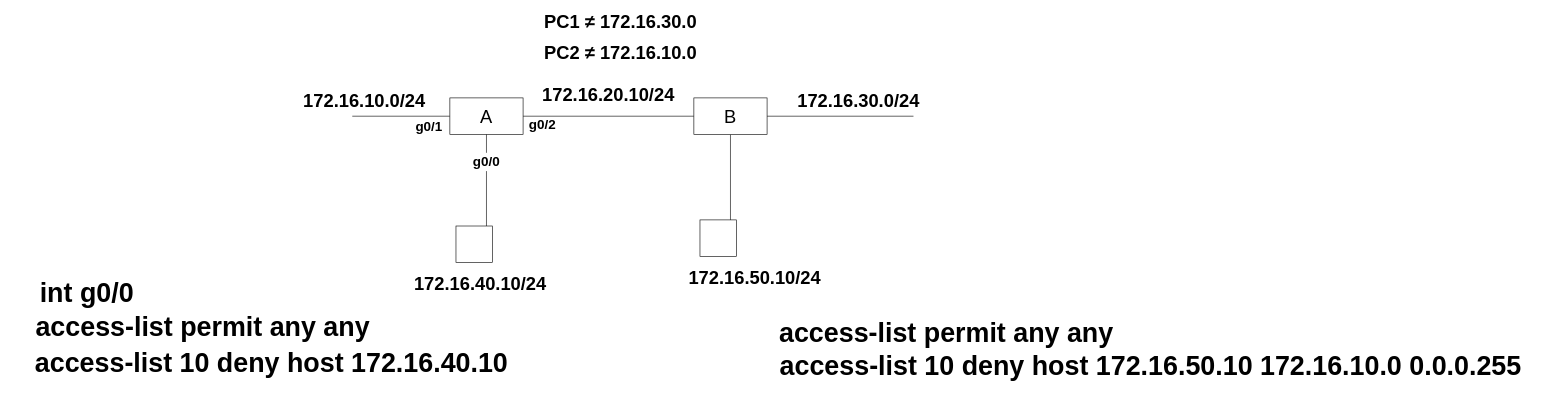
This 1558x401 diagram has some shape labels left out. Each missing label, with the centre of its shape:
"PC1" goes at (474,244).
"PC2" goes at (718,238).
